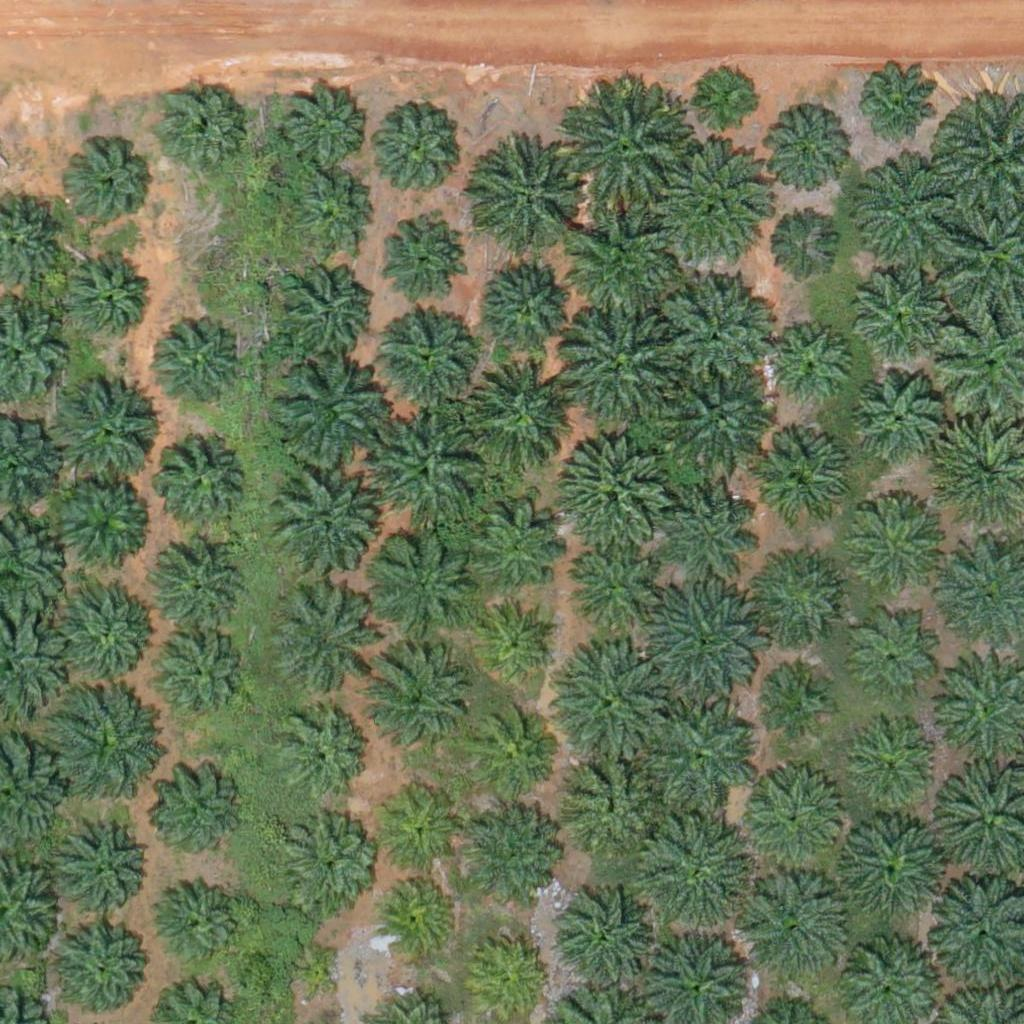Kelapa_Sawit: (564, 92, 689, 218), (835, 812, 948, 926), (664, 147, 777, 261), (460, 360, 573, 474), (853, 152, 966, 265), (740, 767, 853, 880), (642, 816, 755, 929), (646, 582, 759, 695), (567, 210, 680, 323), (558, 311, 671, 424), (555, 431, 668, 544), (453, 491, 566, 604), (52, 685, 165, 798), (563, 649, 675, 763), (365, 525, 477, 639), (362, 641, 474, 755), (271, 357, 383, 471), (737, 873, 849, 987), (645, 700, 757, 813), (664, 362, 776, 475), (659, 275, 771, 388), (370, 416, 482, 529), (46, 373, 158, 486), (662, 469, 762, 570), (482, 253, 582, 354), (366, 97, 466, 198), (266, 589, 366, 690), (142, 317, 242, 418), (147, 538, 247, 639), (148, 627, 248, 728), (57, 579, 157, 680), (49, 471, 149, 572), (751, 431, 851, 531), (566, 752, 666, 852), (477, 151, 577, 251), (379, 307, 479, 407), (275, 809, 375, 909), (270, 476, 370, 576), (275, 260, 375, 360), (151, 432, 251, 532), (761, 109, 849, 198), (465, 812, 553, 901), (472, 599, 560, 687), (848, 721, 936, 809), (852, 267, 940, 355), (762, 321, 850, 409), (561, 545, 649, 633), (464, 711, 552, 799), (373, 213, 461, 301), (275, 707, 363, 795), (155, 82, 243, 170), (59, 821, 147, 909), (58, 253, 146, 341), (375, 872, 463, 960), (156, 873, 243, 962), (853, 63, 940, 151), (855, 497, 942, 585), (854, 371, 941, 459), (756, 552, 843, 640), (377, 787, 464, 875), (293, 168, 380, 256), (281, 85, 368, 173), (152, 766, 239, 854), (68, 142, 155, 230), (62, 929, 149, 1017), (562, 894, 649, 982), (763, 214, 838, 290), (858, 623, 933, 699), (472, 941, 547, 1017), (697, 66, 760, 129), (765, 671, 828, 734), (286, 954, 336, 1004)
